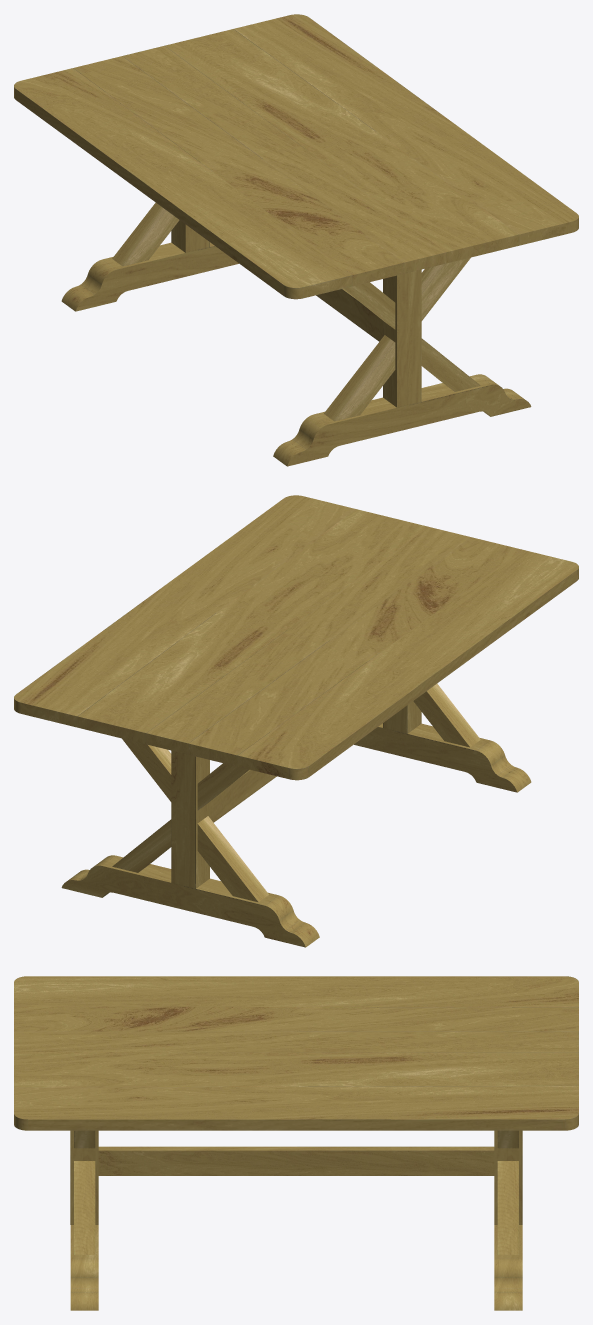
The model's file is x-trestle.glb.
3 views of the same model, one above another, from view 1: azimuth 30°, elevation 25°; view 2: azimuth 150°, elevation 25°; view 3: azimuth 270°, elevation 25° (orthographic).
Visible parts, largest first — view 1: table top_Baked, table top.002_Baked, table top.001_Baked, table top.004_Baked, table top.003_Baked, foot001_Baked, foot002_Baked, post001_Baked, brace001_Baked, brace002_Baked, brace003_Baked, cross_Baked (+1 smaller); view 2: table top_Baked, table top.002_Baked, table top.001_Baked, table top.004_Baked, table top.003_Baked, foot002_Baked, foot001_Baked, post002_Baked, brace003_Baked, brace004_Baked, brace001_Baked, cross_Baked (+1 smaller); view 3: table top.001_Baked, table top.002_Baked, table top_Baked, table top.004_Baked, table top.003_Baked, cross_Baked, brace002_Baked, brace004_Baked, foot001_Baked, foot002_Baked, post001_Baked, post002_Baked.
Boxes of the visible parts, box(x1,y1,x2,y2) form: table top_Baked: box(14, 68, 352, 299); table top.002_Baked: box(165, 29, 519, 263); table top.001_Baked: box(234, 14, 578, 245); table top.004_Baked: box(73, 56, 404, 286); table top.003_Baked: box(122, 45, 446, 273); foot001_Baked: box(273, 374, 531, 466); foot002_Baked: box(61, 242, 238, 311); post001_Baked: box(383, 269, 421, 407); brace001_Baked: box(324, 257, 470, 421); brace002_Baked: box(343, 282, 480, 391); brace003_Baked: box(112, 202, 179, 266); cross_Baked: box(316, 289, 382, 341); table top_Baked: box(237, 550, 578, 780); table top.002_Baked: box(77, 509, 428, 744); table top.001_Baked: box(14, 495, 355, 727); table top.004_Baked: box(188, 537, 522, 766); table top.003_Baked: box(146, 527, 470, 754); foot002_Baked: box(61, 855, 319, 947); foot001_Baked: box(354, 723, 531, 792); post002_Baked: box(171, 750, 209, 888); brace003_Baked: box(122, 738, 268, 902); brace004_Baked: box(112, 763, 249, 872); brace001_Baked: box(413, 683, 480, 747); cross_Baked: box(210, 770, 276, 822); table top.001_Baked: box(14, 1086, 578, 1130); table top.002_Baked: box(14, 1052, 578, 1087); table top_Baked: box(14, 976, 578, 1007); table top.004_Baked: box(14, 1006, 578, 1031); table top.003_Baked: box(14, 1031, 578, 1052); cross_Baked: box(98, 1146, 494, 1175); brace002_Baked: box(74, 1161, 95, 1254); brace004_Baked: box(497, 1161, 518, 1254); foot001_Baked: box(70, 1225, 98, 1310); foot002_Baked: box(494, 1225, 522, 1310); post001_Baked: box(70, 1130, 98, 1224); post002_Baked: box(494, 1130, 522, 1224).
Bounding box in the file's own units: 1.22 × 0.8064 × 2.03.
Materials: 16 (16 with a texture image).
